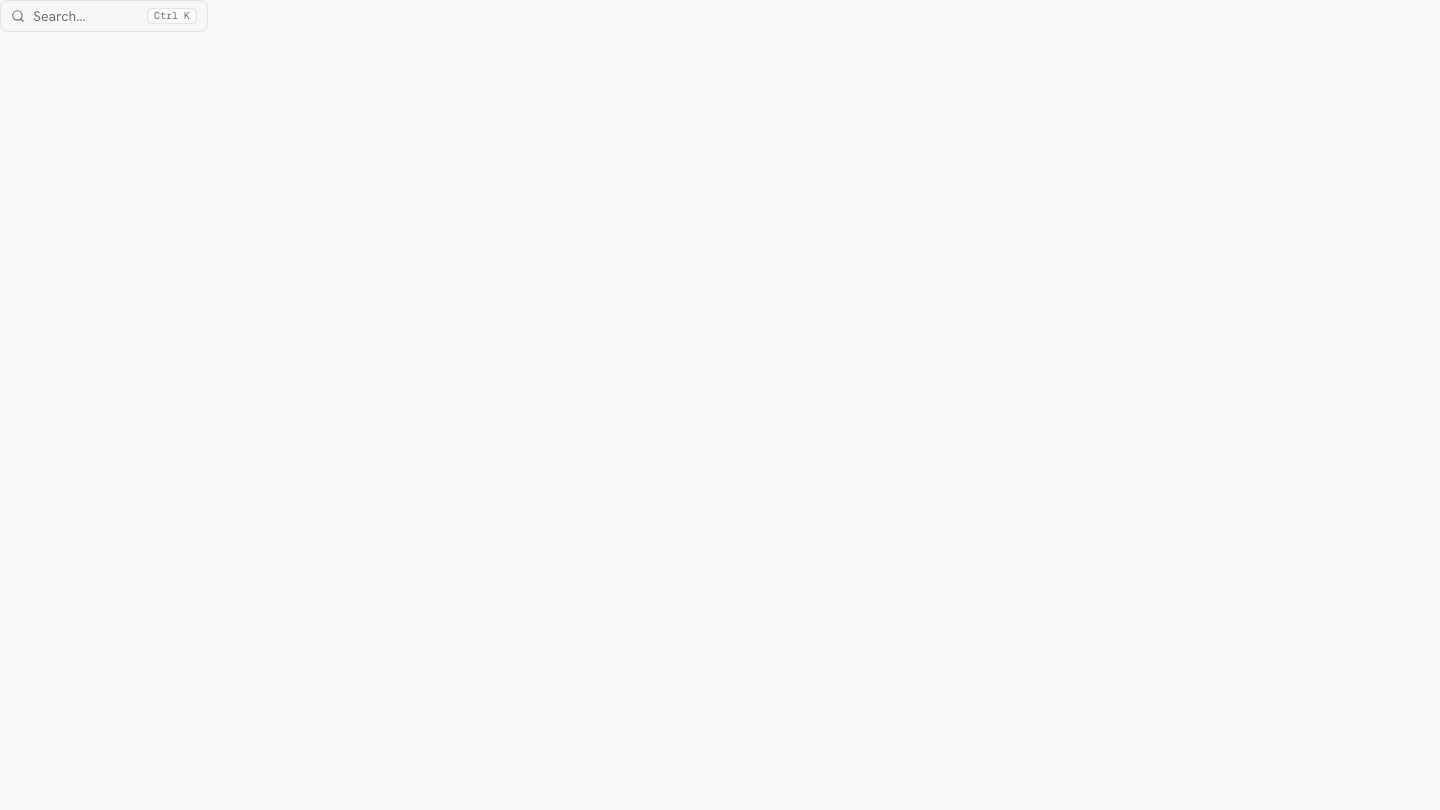
CommandPalette › narrows to one group with the filter chips, with counts for the current query
What coordinates should you click on to do the following:
click the button with aria-label "Open command palette"
I would click on:
 (104, 16)
Its box is [0, 0, 208, 32].
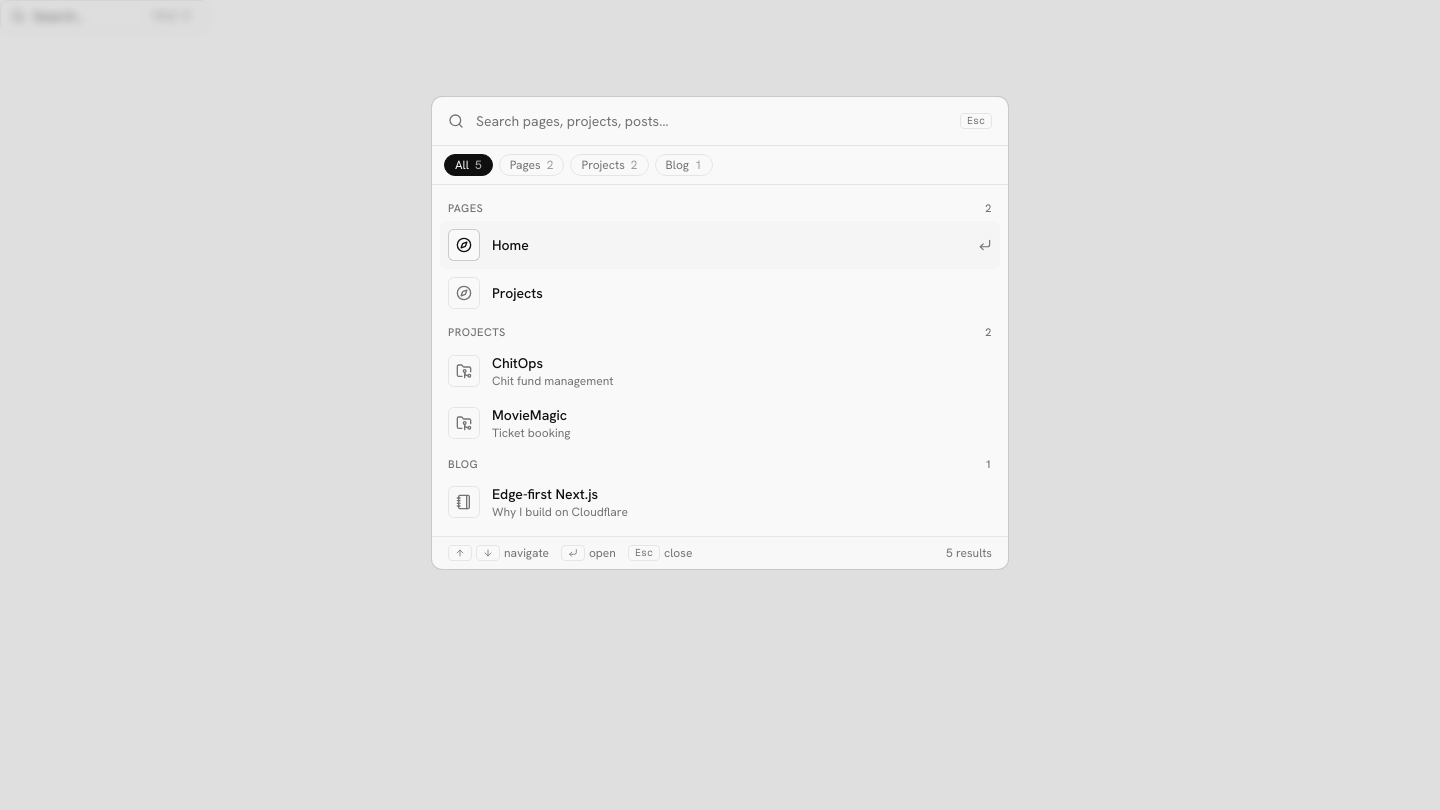
expect the button "Projects 2" is shown: met, box [570, 154, 649, 176]
What coordinates should you click on to do the following:
click the button "Blog 1"
I would click on:
 (684, 165)
Its box is [654, 154, 713, 176].
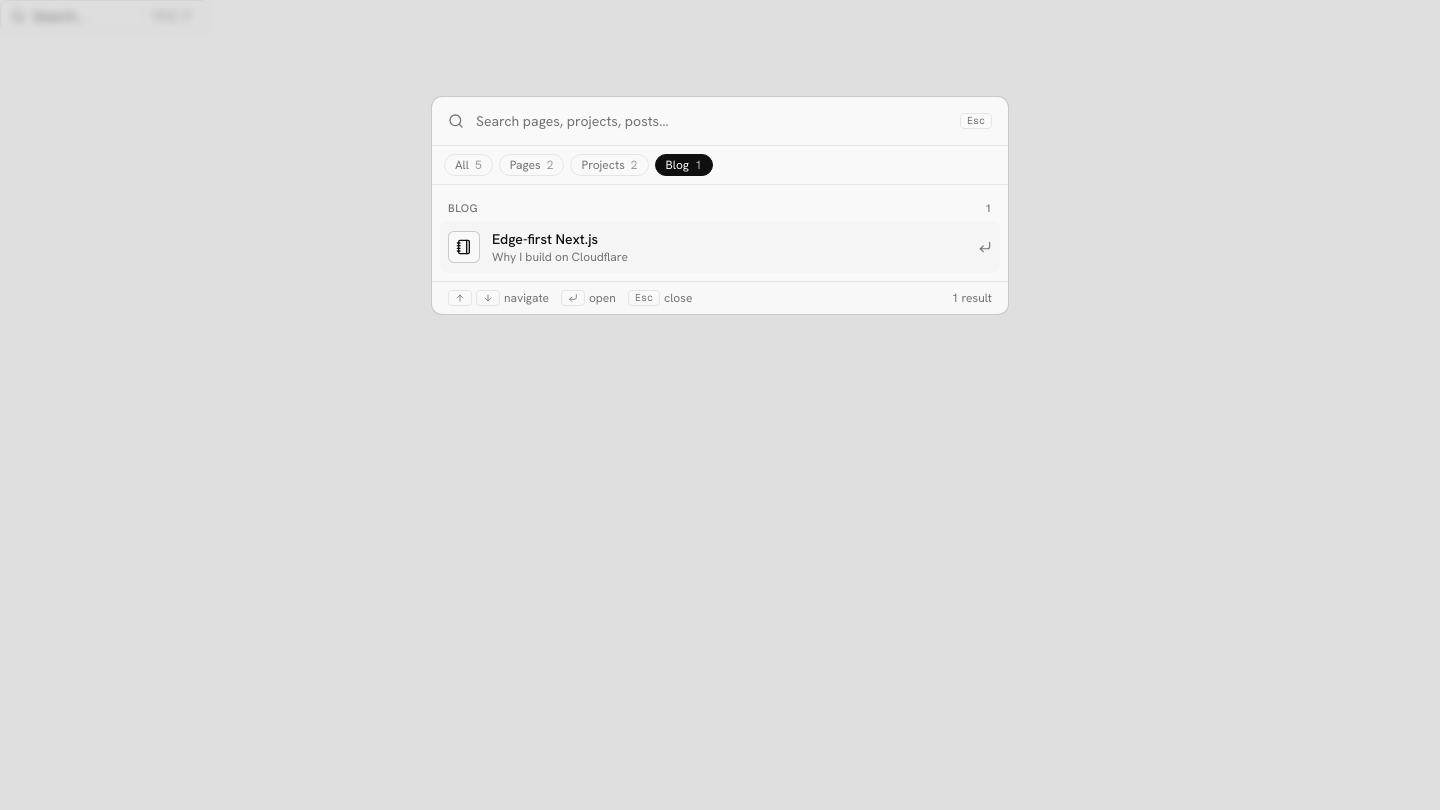
expect the option shows "Edge-first Next.js": met, box [440, 221, 1000, 273]
expect the number of options is 1: met, box [440, 221, 1000, 273]
